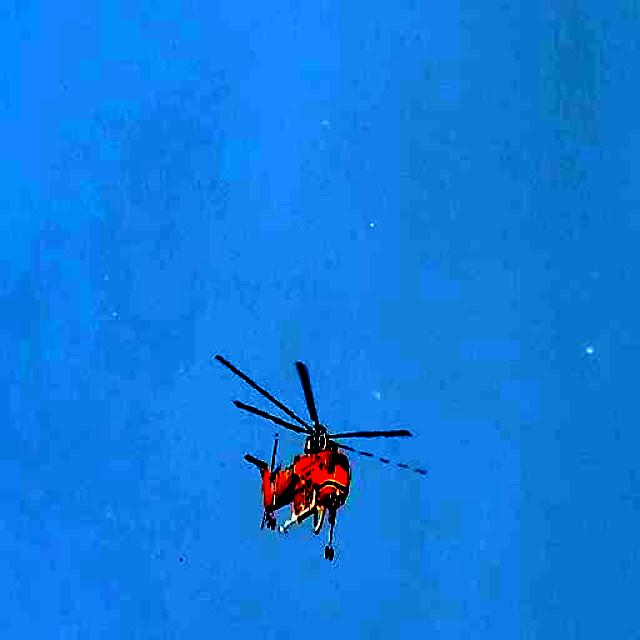drone: (215, 354, 428, 565)
